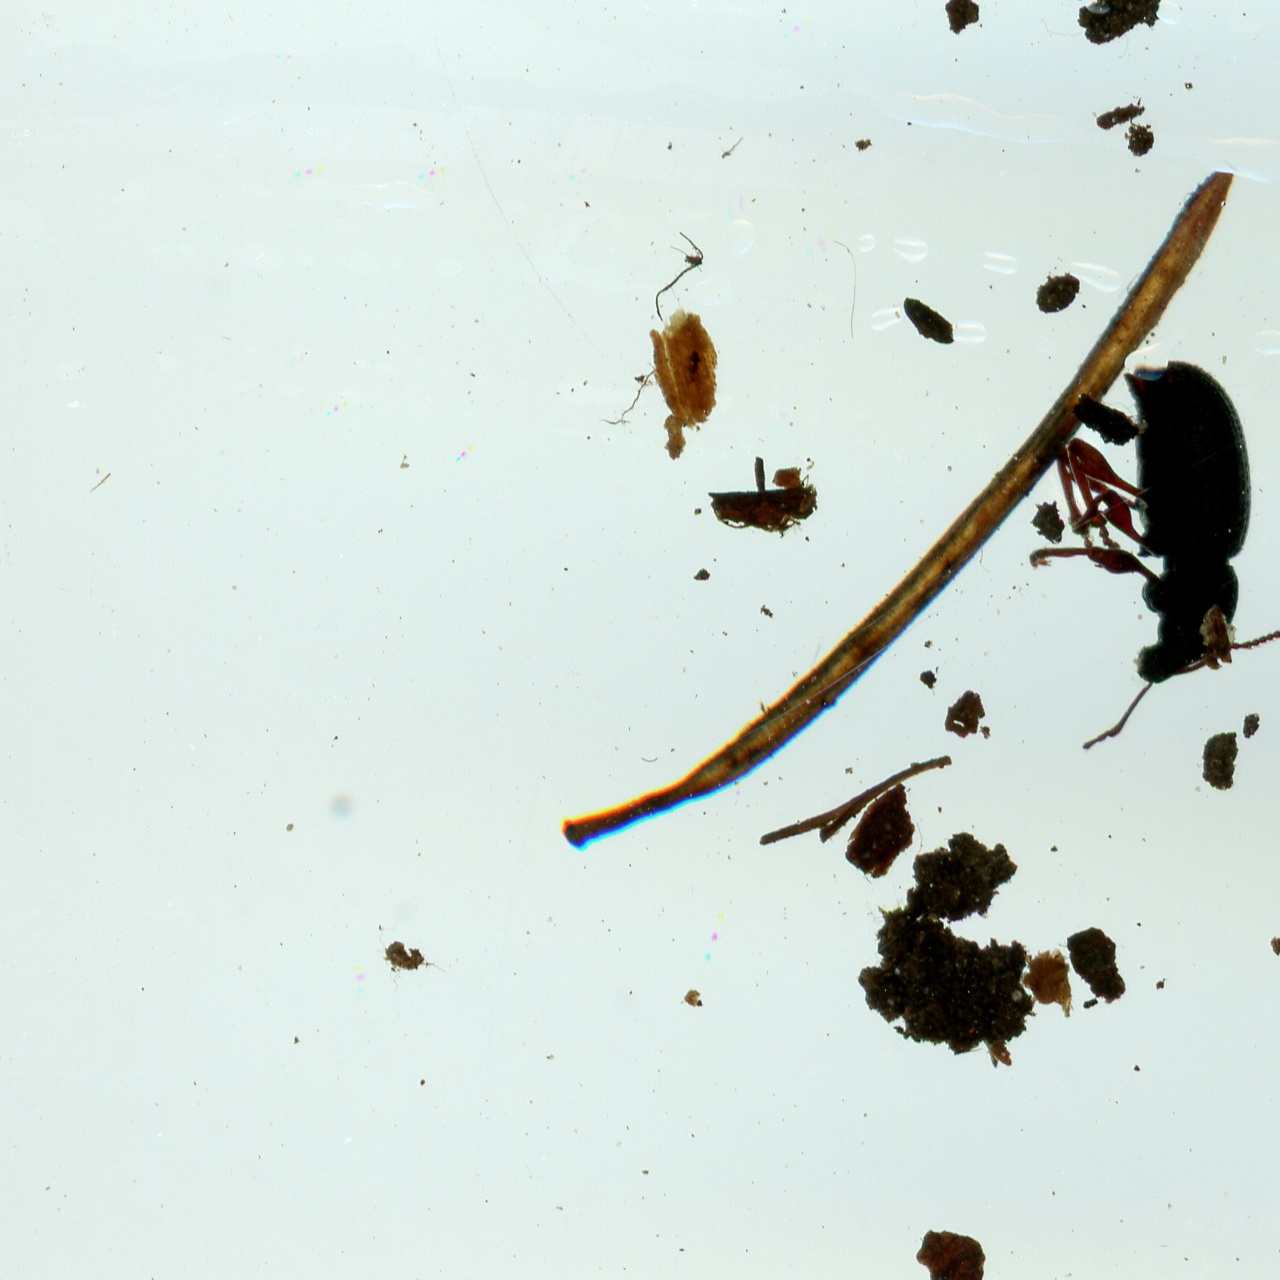arthropod: (979, 327, 1280, 760)
